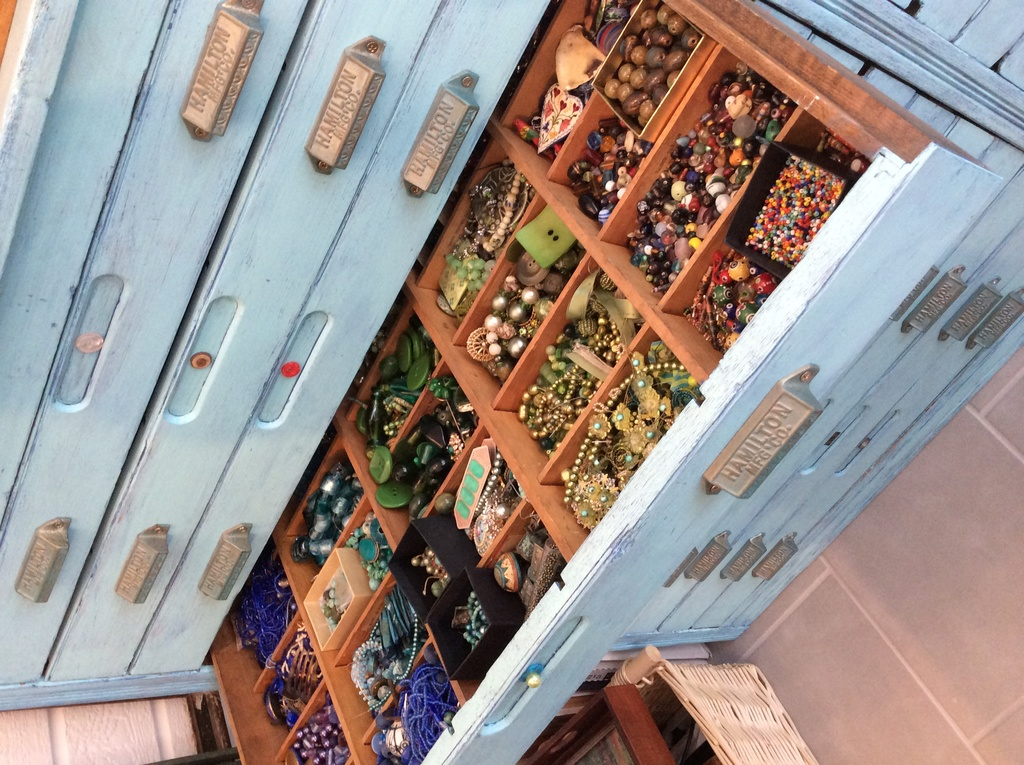handle: (311, 45, 382, 166), (195, 12, 254, 125), (410, 84, 465, 181), (738, 360, 766, 493), (23, 517, 65, 600), (952, 268, 991, 344), (210, 529, 246, 602), (988, 287, 1022, 363), (126, 531, 161, 601), (923, 262, 954, 340), (693, 528, 734, 576), (759, 528, 788, 582), (734, 533, 762, 582)
